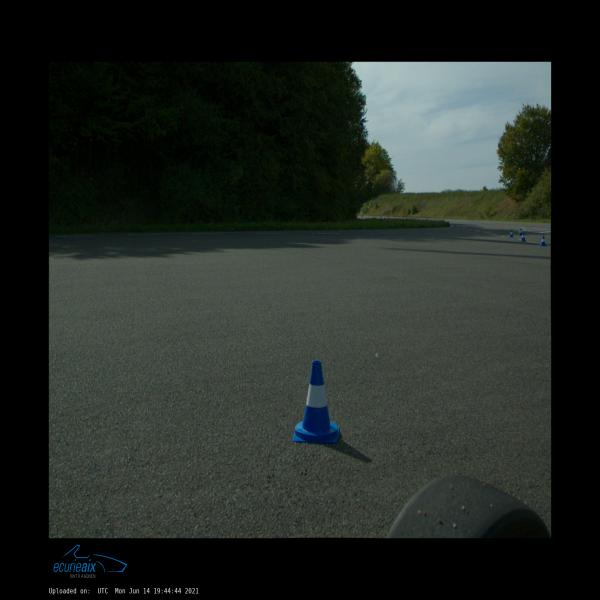blue_cone: (293, 360, 339, 444), (540, 236, 547, 246), (521, 232, 526, 241), (510, 229, 514, 238), (519, 228, 522, 236)
